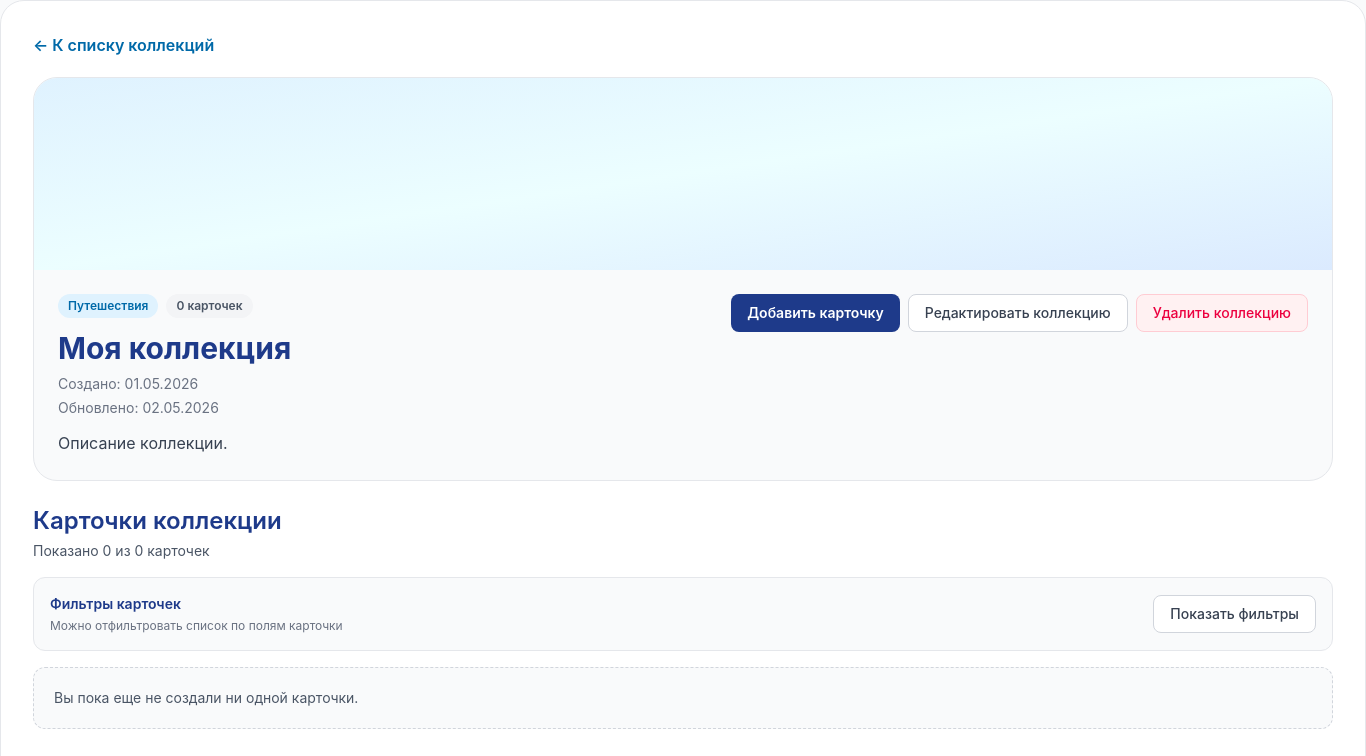
it: CollectionDetailPage › renders empty state for entries without active filters
The width and height of the screenshot is (1366, 756).
Expected: the heading "Моя коллекция" is shown, left=58, top=330, right=291, bottom=366
Expected: the text "Вы пока еще не создали ни одной карточки." is shown, left=33, top=667, right=1333, bottom=729
Click the button "Показать фильтры": {"x": 1235, "y": 614} left=1153, top=595, right=1316, bottom=633
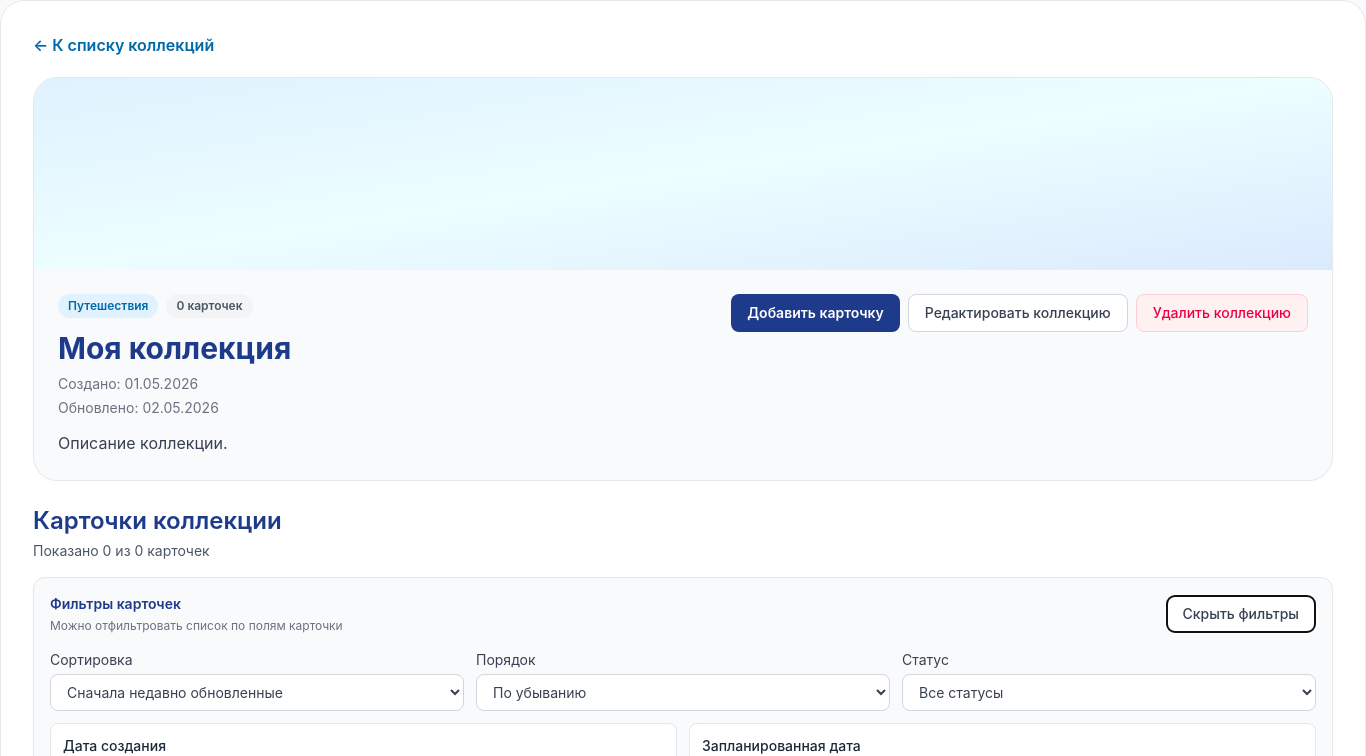
Now the dropdown labelled "Статус" is shown, box left=902, top=674, right=1316, bottom=711
